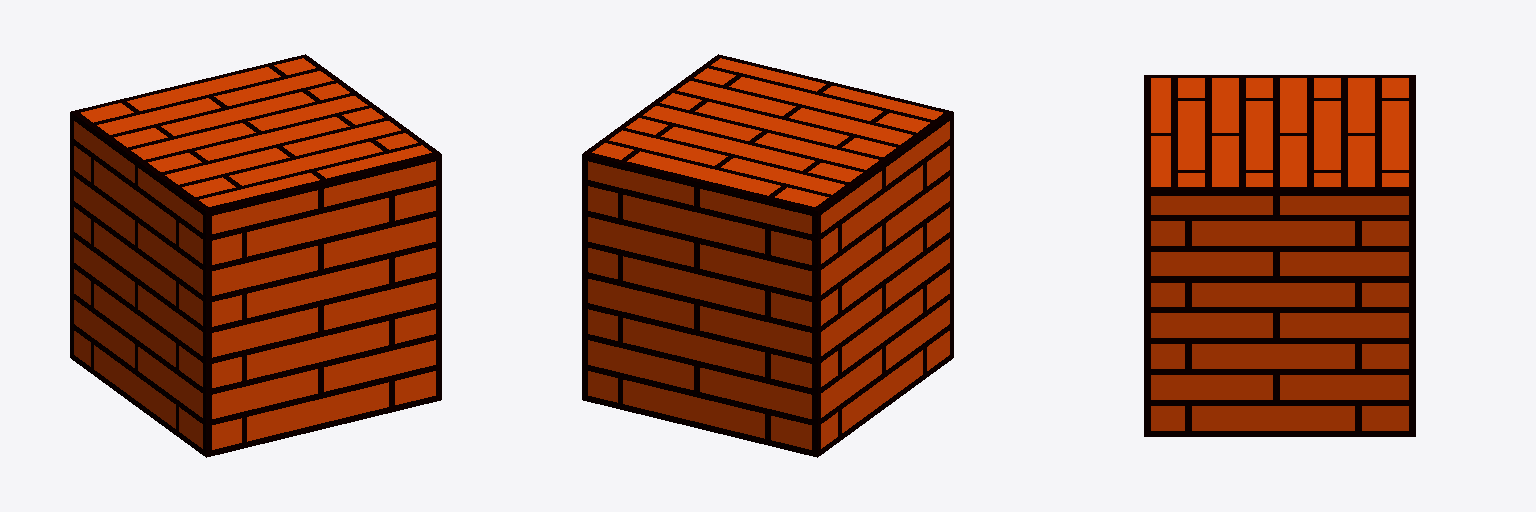
3 renders of one model, left to right at view 1: azimuth 30°, elevation 25°; view 2: azimuth 150°, elevation 25°; view 3: azimuth 270°, elevation 25°, orthographic.
Parts seen in each view (by area): view 1: object 1; view 2: object 1; view 3: object 1.
Boxes of the visible parts, x1,y1,x2,y2 form: object 1: [70, 54, 441, 457]; object 1: [582, 54, 953, 457]; object 1: [1144, 75, 1415, 436].
Bounding box in the file's own units: 4 × 4 × 4.
Materials: 1 (1 with a texture image).